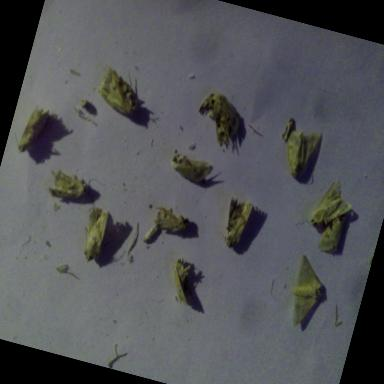abw: (271, 245, 339, 338), (188, 87, 260, 163), (88, 63, 152, 125), (303, 172, 360, 238), (162, 150, 232, 200), (7, 98, 57, 162), (276, 122, 324, 187), (72, 202, 117, 268), (213, 194, 256, 254), (160, 254, 204, 311), (42, 164, 92, 208), (148, 202, 194, 240), (315, 209, 349, 258)
